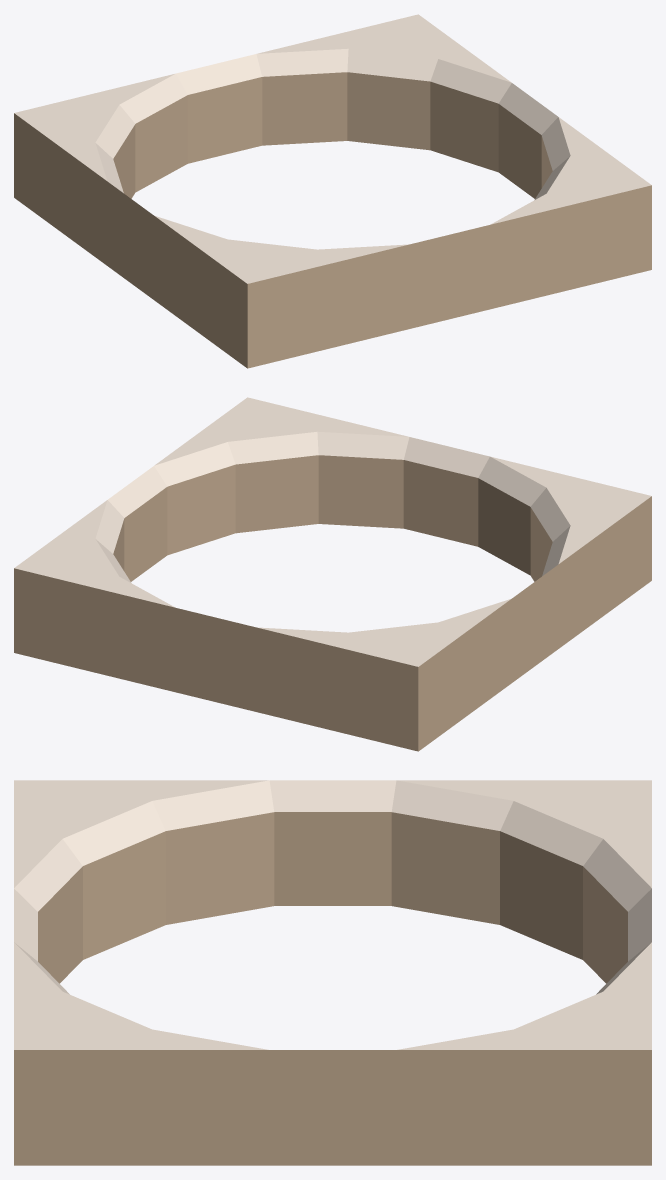
The model's file is Puzzle_Track_Rotating_Housing_Unconnected.fbx.
3 views of the same model, one above another, from view 1: azimuth 30°, elevation 25°; view 2: azimuth 150°, elevation 25°; view 3: azimuth 270°, elevation 25° (orthographic). The views are drawn at different scales.
Visible parts, largest first — view 1: Sandstone_Trim.Sandstone_Trim.Sandstone_Trim.Sandstone_Trim., Sandstone_Floor.Sandstone_Floor.Sandstone_Floor.Sandstone_Fl; view 2: Sandstone_Trim.Sandstone_Trim.Sandstone_Trim.Sandstone_Trim., Sandstone_Floor.Sandstone_Floor.Sandstone_Floor.Sandstone_Fl; view 3: Sandstone_Trim.Sandstone_Trim.Sandstone_Trim.Sandstone_Trim., Sandstone_Floor.Sandstone_Floor.Sandstone_Floor.Sandstone_Fl.
Boxes of the visible parts, x1=… form: Sandstone_Trim.Sandstone_Trim.Sandstone_Trim.Sandstone_Trim.: x1=14, y1=72, x2=651, y2=368; Sandstone_Floor.Sandstone_Floor.Sandstone_Floor.Sandstone_Fl: x1=14, y1=14, x2=651, y2=283; Sandstone_Trim.Sandstone_Trim.Sandstone_Trim.Sandstone_Trim.: x1=14, y1=455, x2=651, y2=751; Sandstone_Floor.Sandstone_Floor.Sandstone_Floor.Sandstone_Fl: x1=14, y1=397, x2=651, y2=666; Sandstone_Trim.Sandstone_Trim.Sandstone_Trim.Sandstone_Trim.: x1=14, y1=812, x2=651, y2=1165; Sandstone_Floor.Sandstone_Floor.Sandstone_Floor.Sandstone_Fl: x1=14, y1=780, x2=651, y2=1049.
Bounding box in the file's own units: 1 × 0.2 × 1.
